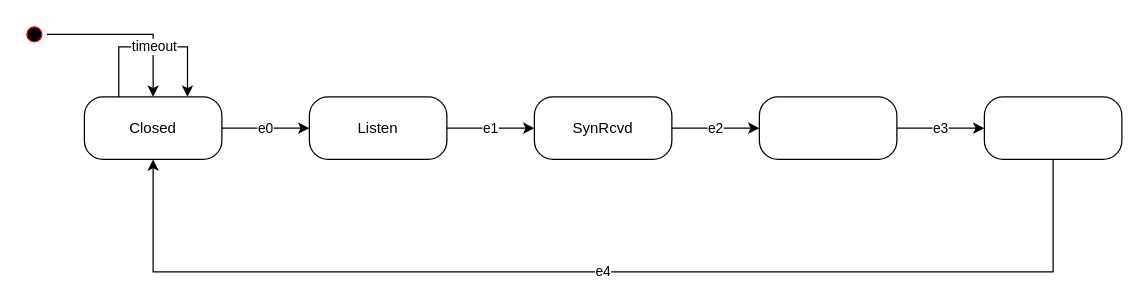
The diagram is 1144 pixels wide and 304 high, and some of its shapes have lost their labels. Each missing label, with the centre of its shape:
Established: the point at 827,127
FinWait: the point at 1052,127
